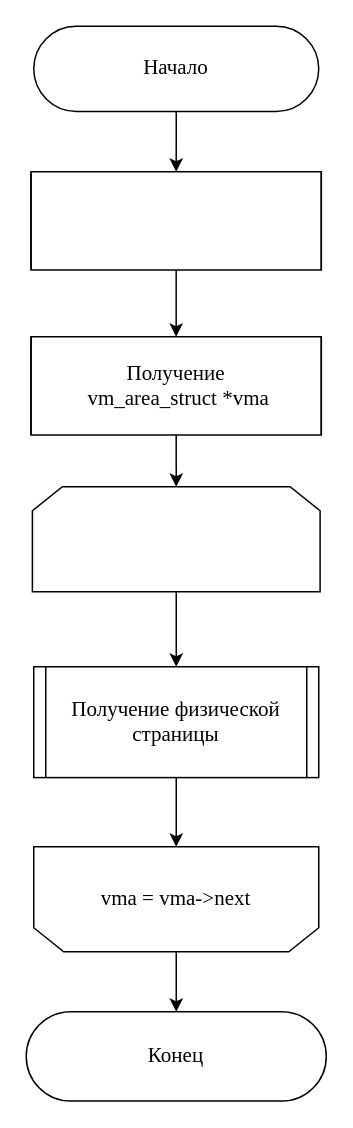
Some shapes in this 353 by 1128 pixel diagram are drawn without their labels. The shapes that lost their labels are listed below. From the top down, each one's centre as x and y in pixels, then its label:
the point at 175,220: Получение дескриптора памяти процесса
the point at 175,538: Цикл по областям памяти процесса, vma == NULL
